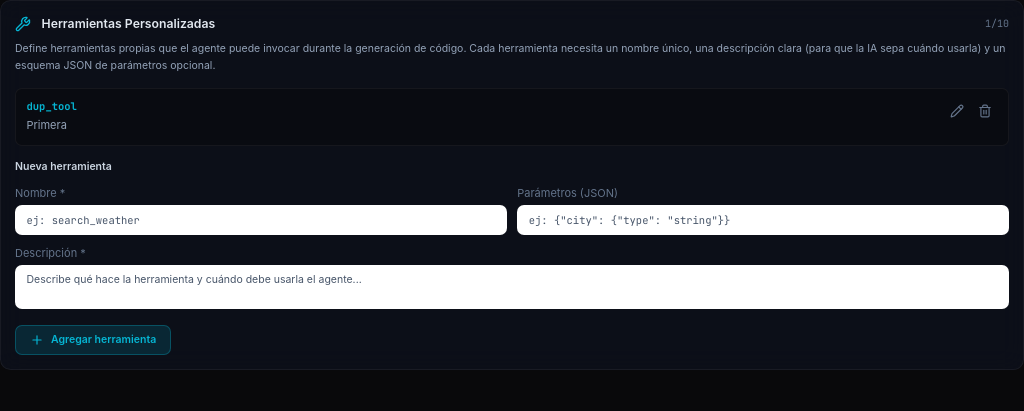
Test: CustomToolsPanel › no permite nombres duplicados
The image size is (1024, 411).
Type "dup_tool" into the field with test id "tool-name-input".
click(261, 220); type("dup_tool")  # box [15,204,507,234]
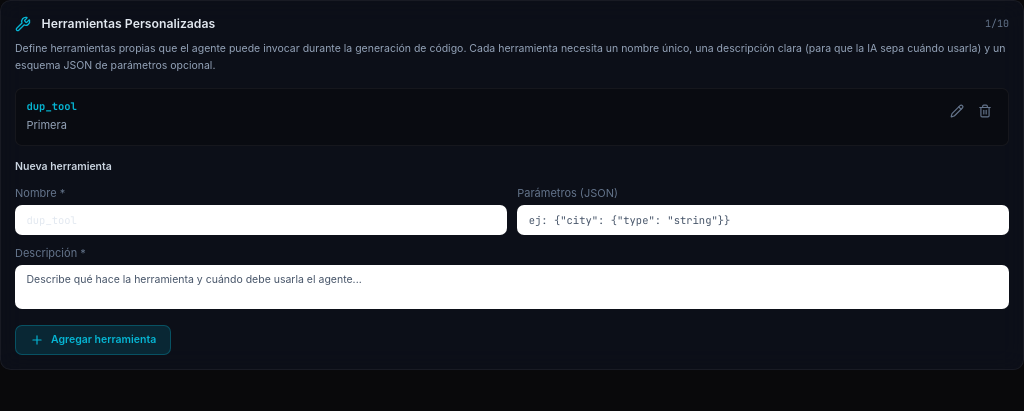
Replace the text in the text box with test id "tool-description-input" with "Segunda" at (512, 287), box [15,265,1009,309]
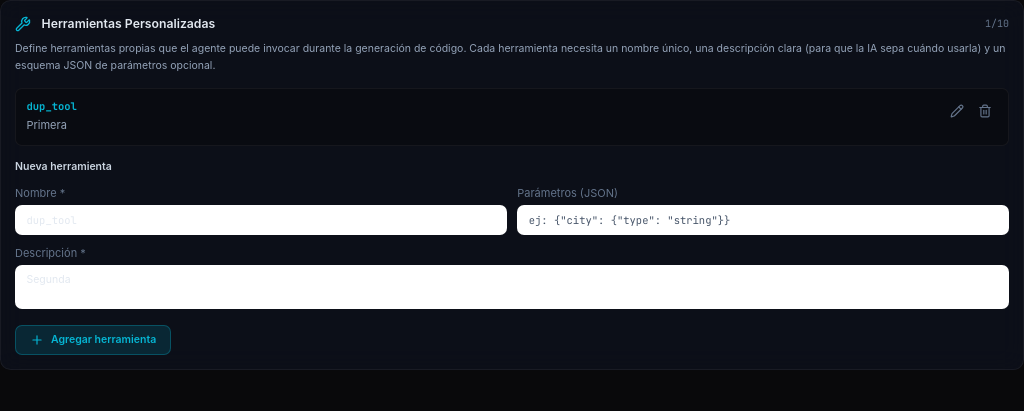
Click the button with test id "tool-submit-btn".
click(93, 340)  # box [15,324,171,354]
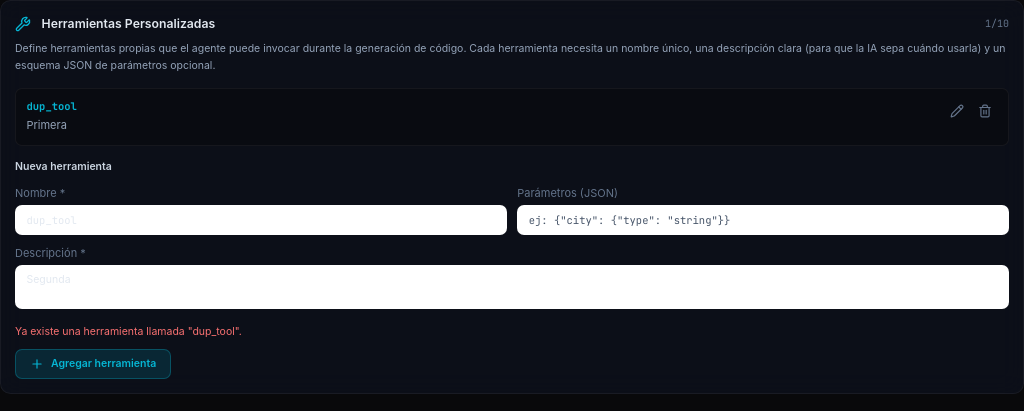
Check: the message "Ya existe una herramienta llamada \"dup_tool\"." is shown, box [15,324,242,338]
